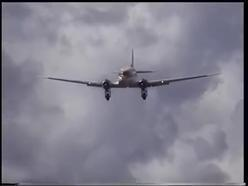aircraft: (46, 47, 217, 100)
